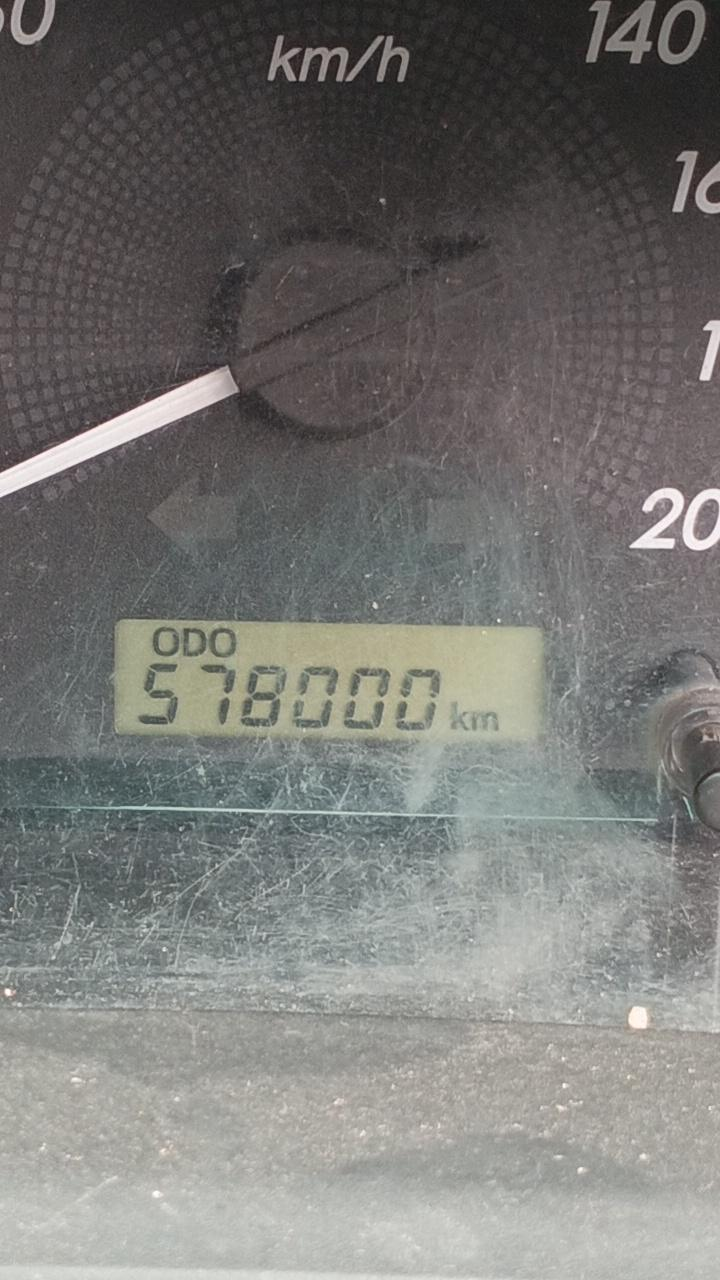0: (394, 667, 441, 732), (342, 667, 390, 730), (292, 665, 338, 729)
5: (136, 662, 180, 726)
7: (198, 663, 237, 726)
8: (239, 664, 287, 729)
X: (153, 626, 180, 657), (209, 627, 236, 658), (182, 626, 207, 658), (449, 701, 469, 732), (471, 709, 499, 731)
odometer: (113, 616, 543, 746)
